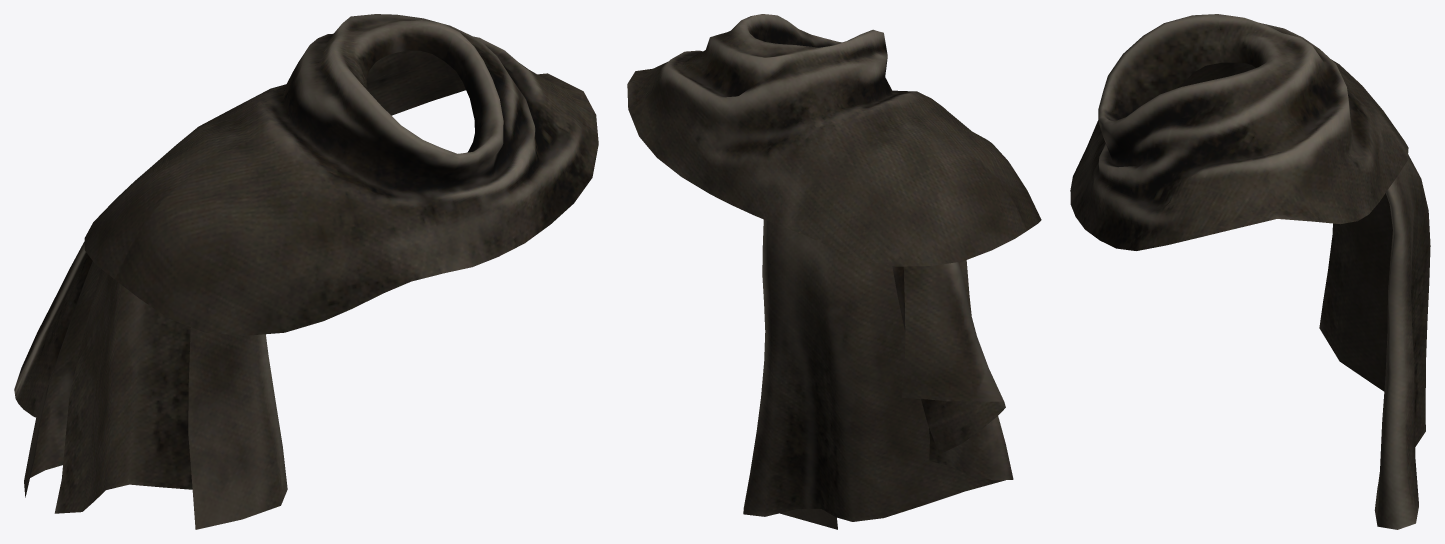
The model's file is dunland_wulf_cape_short_b.fbx.
3 views of the same model, side by side, from view 1: azimuth 30°, elevation 25°; view 2: azimuth 150°, elevation 25°; view 3: azimuth 270°, elevation 25° (orthographic). The views are drawn at different scales.
Visible parts, largest first — view 1: dunland_wulf_cape_short_b, dunland_wulf_cape_short_b.clothsim; view 2: dunland_wulf_cape_short_b, dunland_wulf_cape_short_b.clothsim; view 3: dunland_wulf_cape_short_b, dunland_wulf_cape_short_b.clothsim.
Part boxes in pixels (x1,y1,x2,y2): dunland_wulf_cape_short_b: (84, 14, 598, 335); dunland_wulf_cape_short_b.clothsim: (14, 241, 287, 529); dunland_wulf_cape_short_b: (627, 14, 1041, 266); dunland_wulf_cape_short_b.clothsim: (743, 219, 1013, 529); dunland_wulf_cape_short_b: (1070, 14, 1408, 250); dunland_wulf_cape_short_b.clothsim: (1319, 154, 1430, 529).
Bounding box in the file's own units: 0.5214 × 0.326 × 0.5041.
Materials: 1 (1 with a texture image).
